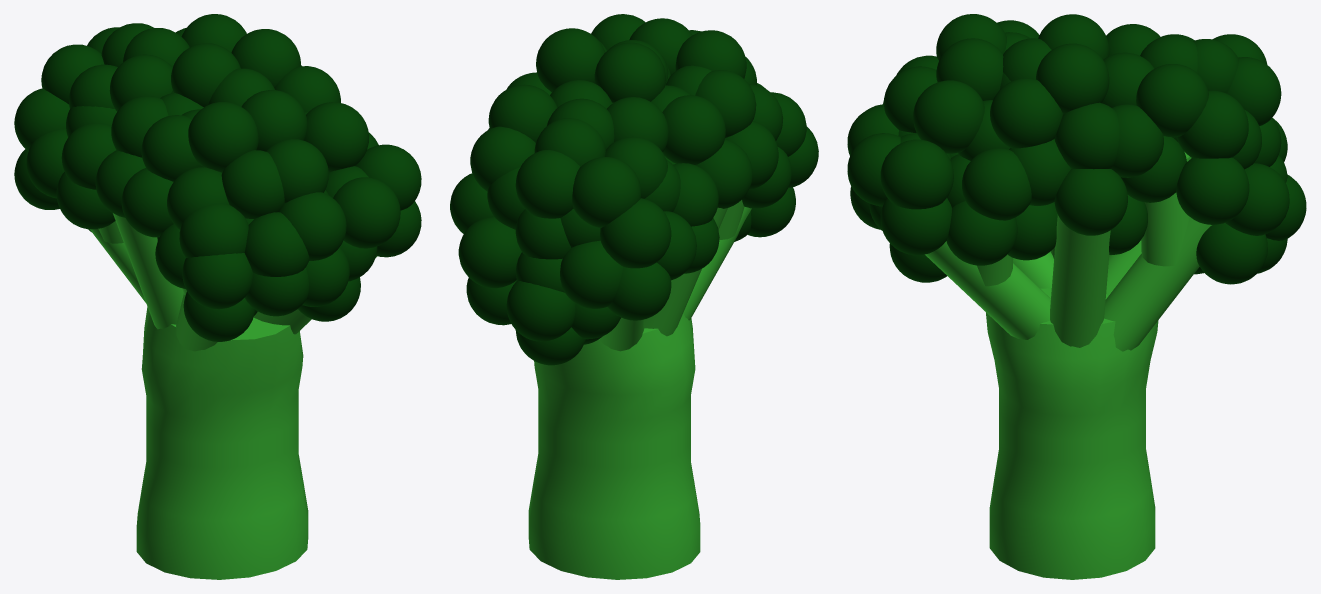
Rendered from broccoli.FBX.
3 views of the same model, side by side, from view 1: azimuth 30°, elevation 25°; view 2: azimuth 150°, elevation 25°; view 3: azimuth 270°, elevation 25° (orthographic). The views are drawn at different scales.
Visible parts, largest first — view 1: Cylinder001, Sphere021, Sphere076, Sphere077, Sphere038, Sphere005, Sphere050, Cylinder009, Sphere051, Sphere082, Sphere062, Sphere007 (+34 smaller); view 2: Cylinder001, Sphere090, Sphere053, Sphere061, Sphere027, Sphere087, Sphere062, Sphere013, Sphere064, Sphere079, Sphere029, Sphere054 (+35 smaller); view 3: Cylinder001, Cylinder014, Cylinder010, Cylinder012, Sphere074, Sphere015, Sphere077, Sphere057, Sphere069, Sphere042, Sphere086, Sphere079 (+34 smaller).
Part boxes in pixels (x1,y1,x2,y2): Cylinder001: [136, 307, 308, 579]; Sphere021: [188, 102, 258, 172]; Sphere076: [333, 177, 400, 248]; Sphere077: [304, 102, 368, 172]; Sphere038: [221, 150, 284, 219]; Sphere005: [182, 253, 253, 309]; Sphere050: [244, 212, 309, 276]; Cylinder009: [113, 213, 183, 329]; Sphere051: [179, 203, 248, 257]; Sphere082: [279, 192, 346, 260]; Sphere062: [171, 43, 240, 107]; Sphere007: [141, 115, 203, 181]; Cylinder001: [528, 313, 700, 579]; Sphere090: [572, 157, 641, 227]; Sphere053: [600, 198, 671, 268]; Sphere061: [662, 95, 725, 164]; Sphere027: [458, 216, 521, 288]; Sphere087: [515, 150, 580, 218]; Sphere062: [594, 42, 665, 102]; Sphere013: [560, 240, 623, 308]; Sphere064: [506, 281, 575, 341]; Sphere079: [536, 28, 605, 92]; Sphere029: [470, 126, 535, 191]; Sphere054: [608, 262, 671, 320]; Cylinder001: [986, 288, 1158, 579]; Cylinder014: [1050, 214, 1110, 347]; Cylinder010: [1104, 217, 1211, 351]; Cylinder012: [925, 241, 1050, 339]; Sphere074: [880, 139, 953, 209]; Sphere015: [1176, 157, 1249, 224]; Sphere077: [913, 80, 984, 153]; Sphere057: [1054, 169, 1127, 235]; Sphere069: [962, 148, 1031, 220]; Sphere042: [990, 78, 1063, 148]; Sphere086: [1136, 64, 1208, 137]; Sphere079: [1036, 43, 1109, 113].
Bounding box in the file's own units: 11.14 × 20.99 × 16.92.
